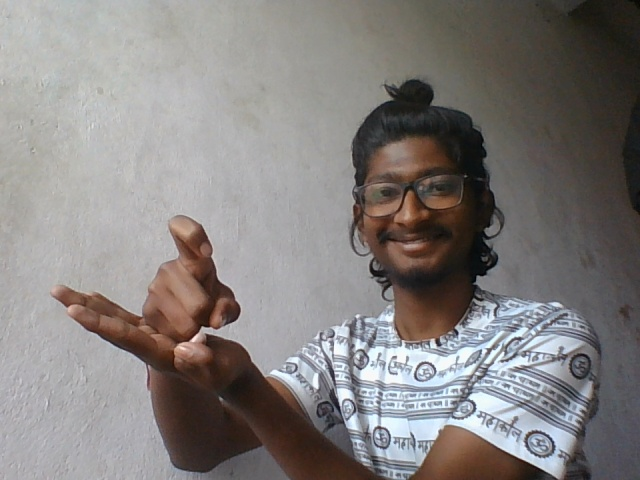No: (41, 209, 272, 387)
